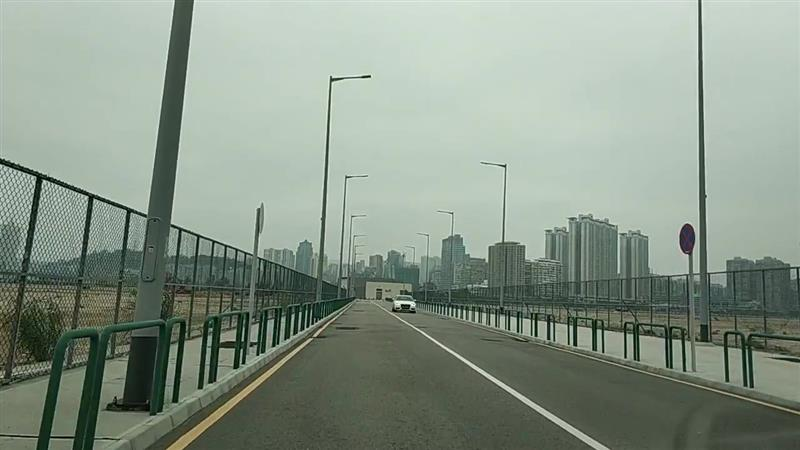car: (391, 293, 417, 313)
